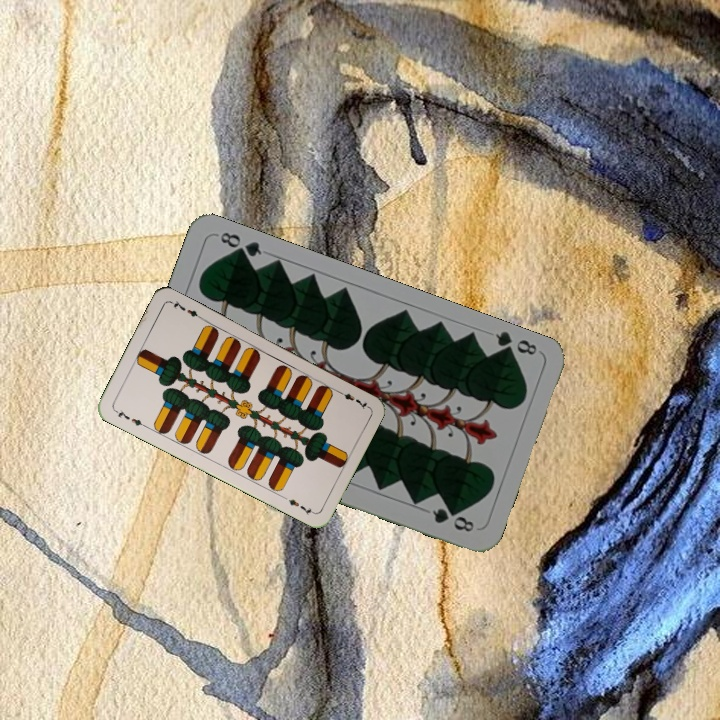E7: (333, 386, 371, 412), (110, 405, 148, 430)
G8: (491, 327, 540, 361)
